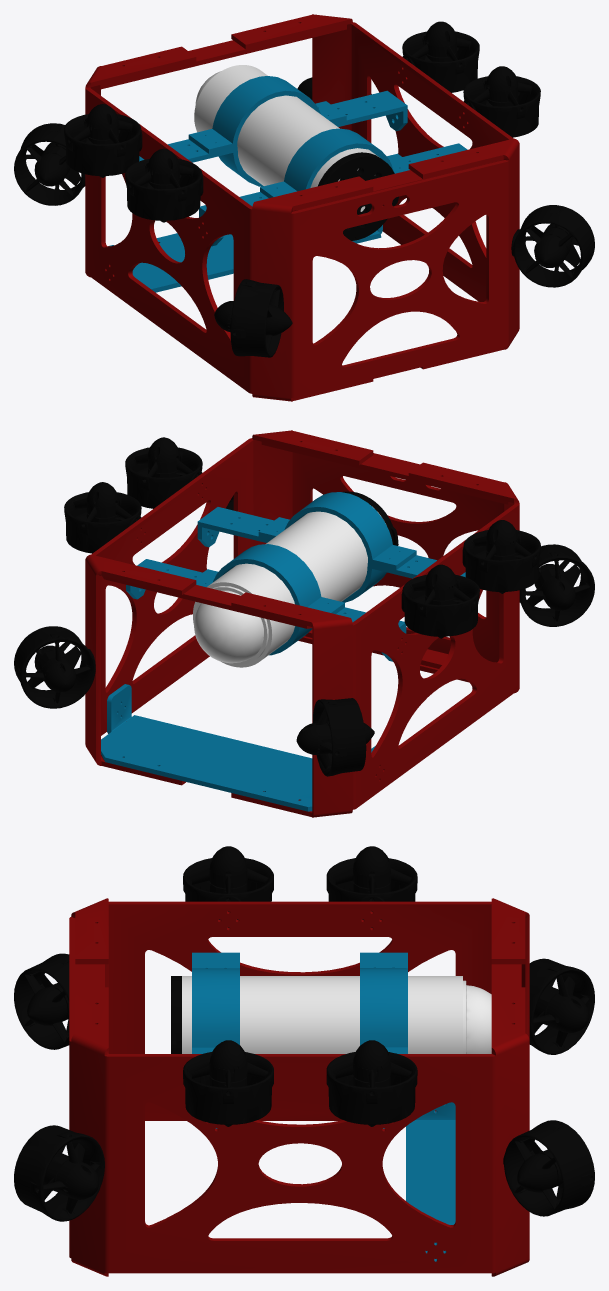
File: Full-Robot-Body.glb
3 renders of one model, top to bottom at view 1: azimuth 30°, elevation 25°; view 2: azimuth 150°, elevation 25°; view 3: azimuth 270°, elevation 25°, orthographic. The views are drawn at different scales.
Visible parts, largest first — view 1: Full-Robot-Body.762, Full-Robot-Body.763, Full-Robot-Body.770, Full-Robot-Body.851, Full-Robot-Body.1082, Full-Robot-Body.1081, Full-Robot-Body.1084, Full-Robot-Body.1086, Full-Robot-Body.1085, Full-Robot-Body.1079, Full-Robot-Body.1080, Full-Robot-Body.767 (+2 smaller); view 2: Full-Robot-Body.762, Full-Robot-Body.763, Full-Robot-Body.1086, Full-Robot-Body.1083, Full-Robot-Body.770, Full-Robot-Body.1081, Full-Robot-Body.1082, Full-Robot-Body.1084, Full-Robot-Body.1085, Full-Robot-Body.1080, Full-Robot-Body.768, Full-Robot-Body.1079 (+2 smaller); view 3: Full-Robot-Body.762, Full-Robot-Body.763, Full-Robot-Body.1083, Full-Robot-Body.851, Full-Robot-Body.1080, Full-Robot-Body.1079, Full-Robot-Body.1085, Full-Robot-Body.1086, Full-Robot-Body.770, Full-Robot-Body.1084, Full-Robot-Body.1081, Full-Robot-Body.1082 (+4 smaller).
Boxes of the visible parts, x1,y1,x2,y2 form: Full-Robot-Body.762: (85, 14, 519, 401); Full-Robot-Body.763: (194, 65, 379, 211); Full-Robot-Body.770: (139, 76, 407, 186); Full-Robot-Body.851: (511, 205, 594, 287); Full-Robot-Body.1082: (125, 148, 203, 222); Full-Robot-Body.1081: (64, 104, 142, 177); Full-Robot-Body.1084: (214, 279, 292, 357); Full-Robot-Body.1086: (199, 128, 467, 246); Full-Robot-Body.1085: (14, 123, 85, 205); Full-Robot-Body.1079: (463, 66, 540, 137); Full-Robot-Body.1080: (402, 21, 479, 92); Full-Robot-Body.767: (318, 152, 398, 240); Full-Robot-Body.762: (85, 430, 519, 817); Full-Robot-Body.763: (193, 506, 385, 667); Full-Robot-Body.1086: (197, 492, 465, 602); Full-Robot-Body.1083: (14, 626, 95, 708); Full-Robot-Body.770: (126, 544, 406, 661); Full-Robot-Body.1081: (401, 564, 479, 638); Full-Robot-Body.1082: (462, 520, 540, 593); Full-Robot-Body.1084: (519, 544, 594, 626); Full-Robot-Body.1085: (296, 698, 374, 776); Full-Robot-Body.1080: (64, 482, 141, 553); Full-Robot-Body.768: (194, 586, 268, 664); Full-Robot-Body.1079: (125, 437, 202, 508); Full-Robot-Body.762: (69, 898, 529, 1276); Full-Robot-Body.763: (182, 976, 462, 1053); Full-Robot-Body.1083: (503, 1120, 594, 1216); Full-Robot-Body.851: (14, 1125, 104, 1221); Full-Robot-Body.1080: (326, 1040, 417, 1126); Full-Robot-Body.1079: (183, 1040, 273, 1126); Full-Robot-Body.1085: (529, 958, 594, 1054); Full-Robot-Body.1086: (192, 952, 239, 1128); Full-Robot-Body.770: (360, 952, 407, 1128); Full-Robot-Body.1084: (14, 953, 69, 1049); Full-Robot-Body.1081: (326, 846, 417, 927); Full-Robot-Body.1082: (183, 846, 273, 927).
Size of the model in its own units: 17.52 by 9.09 by 18.51.
